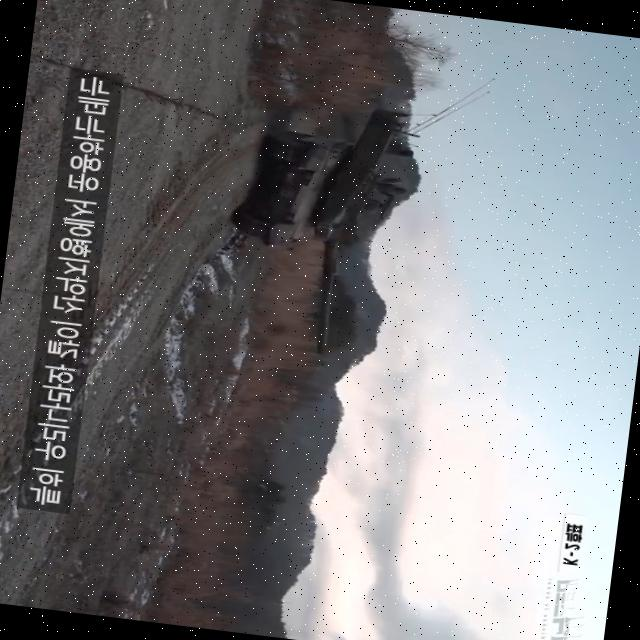korea tank: (214, 89, 422, 363)
